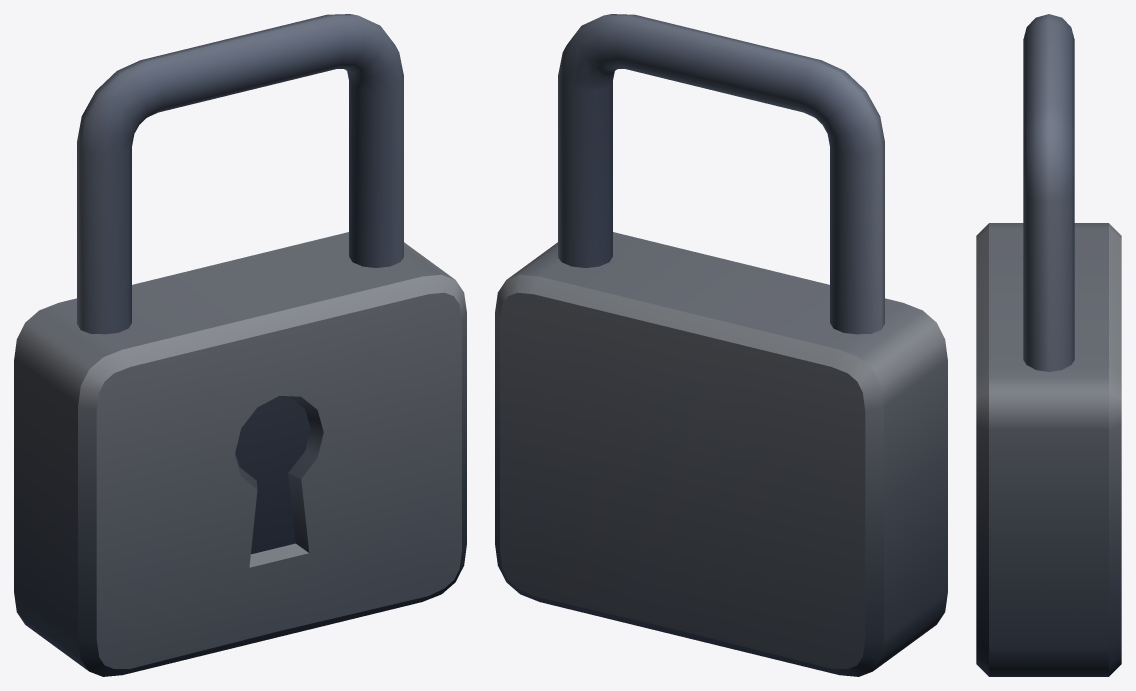
File: Prop_Lock.fbx
The picture shows the model from 3 angles, left to right: view 1: azimuth 30°, elevation 25°; view 2: azimuth 150°, elevation 25°; view 3: azimuth 270°, elevation 25°; orthographic projection. The views are drawn at different scales.
Parts seen in each view (by area): view 1: Prop_Lock; view 2: Prop_Lock; view 3: Prop_Lock.
Part boxes in pixels (x1=…): Prop_Lock: x1=14, y1=14, x2=466, y2=676; Prop_Lock: x1=495, y1=14, x2=947, y2=676; Prop_Lock: x1=976, y1=14, x2=1121, y2=676.
Bounding box in the file's own units: 130 × 184 × 45.14.
